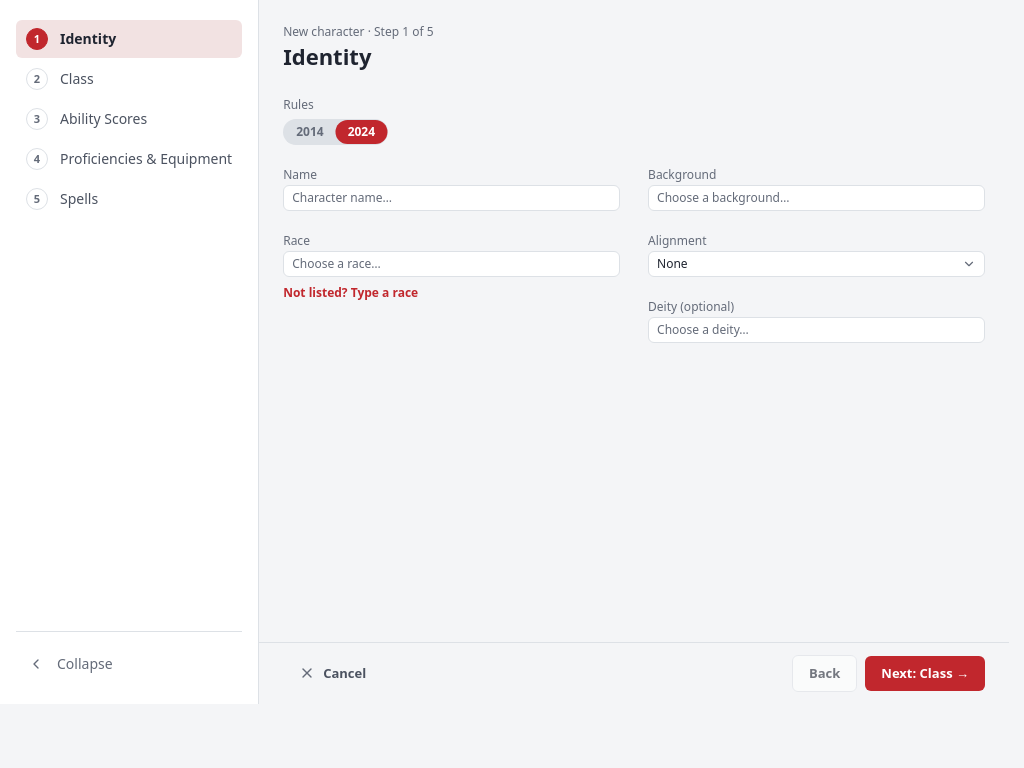
Scenario: CreationFlow › jumps to any step from the rail, and ends on Finish
Click the link "5 Spells" at (62, 199), box [26, 188, 98, 210]
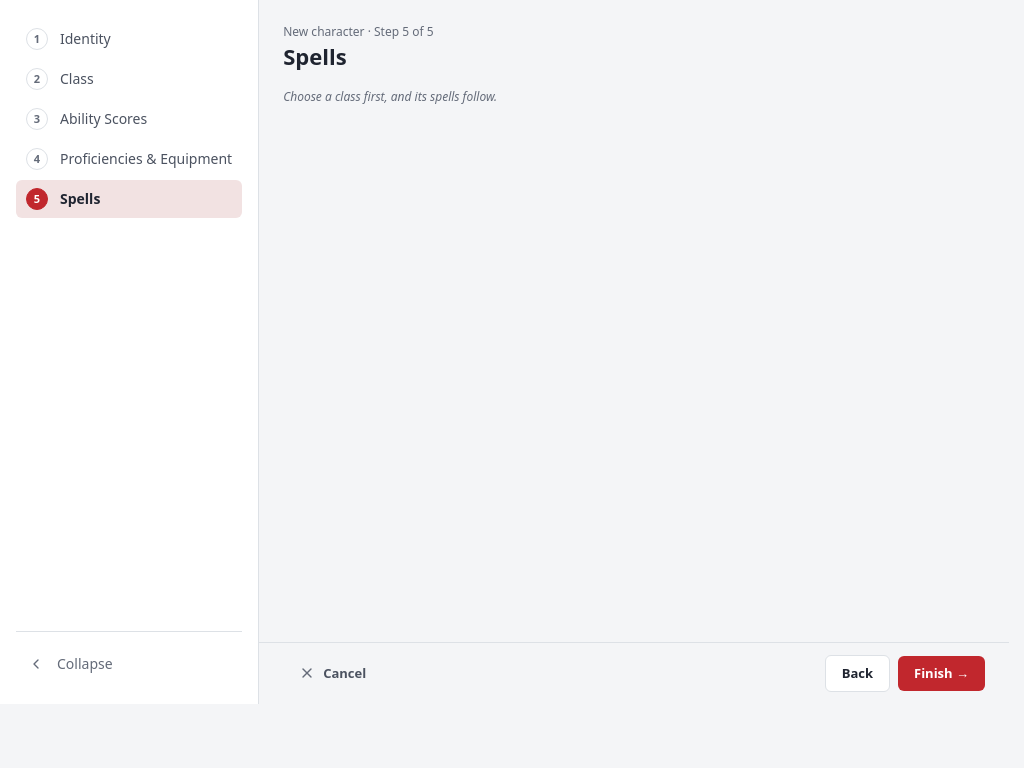
Result: the text "New character · Step 5 of 5" is shown at [283, 23, 434, 40]
Result: the button "Next" is gone
